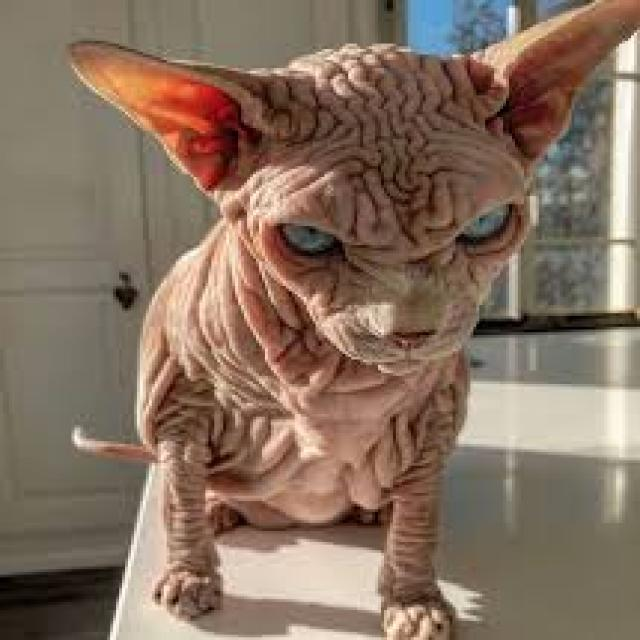cat: (33, 0, 640, 622)
